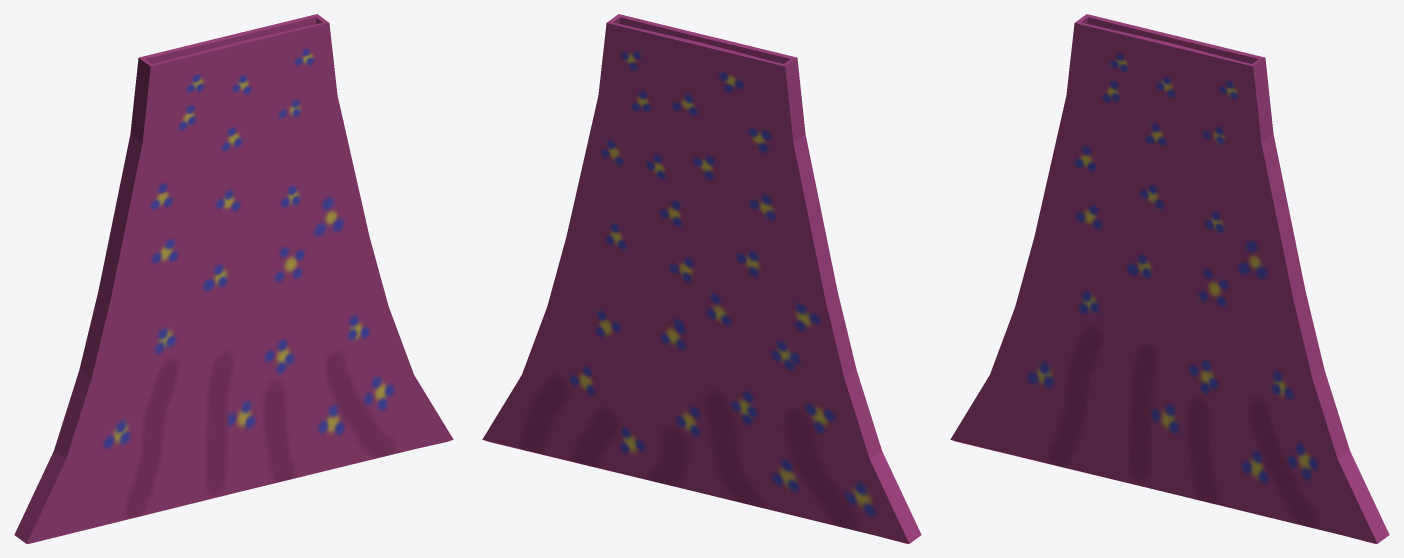
The model's file is Skirt.fbx.
3 renders of one model, left to right at view 1: azimuth 30°, elevation 25°; view 2: azimuth 150°, elevation 25°; view 3: azimuth 330°, elevation 25°, orthographic.
Visible parts, largest first — view 1: Cube; view 2: Cube; view 3: Cube.
Boxes of the visible parts, x1,y1,x2,y2 form: Cube: [14, 14, 453, 543]; Cube: [482, 14, 921, 543]; Cube: [950, 14, 1389, 543].
Bounding box in the file's own units: 71.64 × 72.04 × 3.54.
